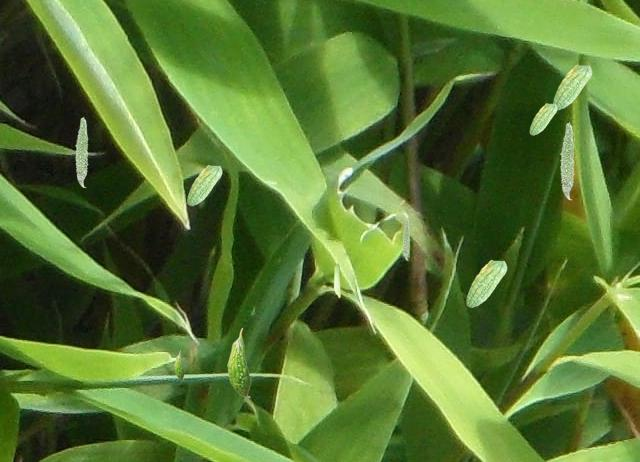ampalaya: (466, 259, 507, 308), (552, 64, 592, 110), (226, 327, 251, 398), (186, 164, 222, 206), (559, 121, 575, 200), (74, 116, 88, 188), (529, 102, 557, 135), (402, 218, 410, 261), (173, 349, 184, 380), (333, 263, 341, 298)
